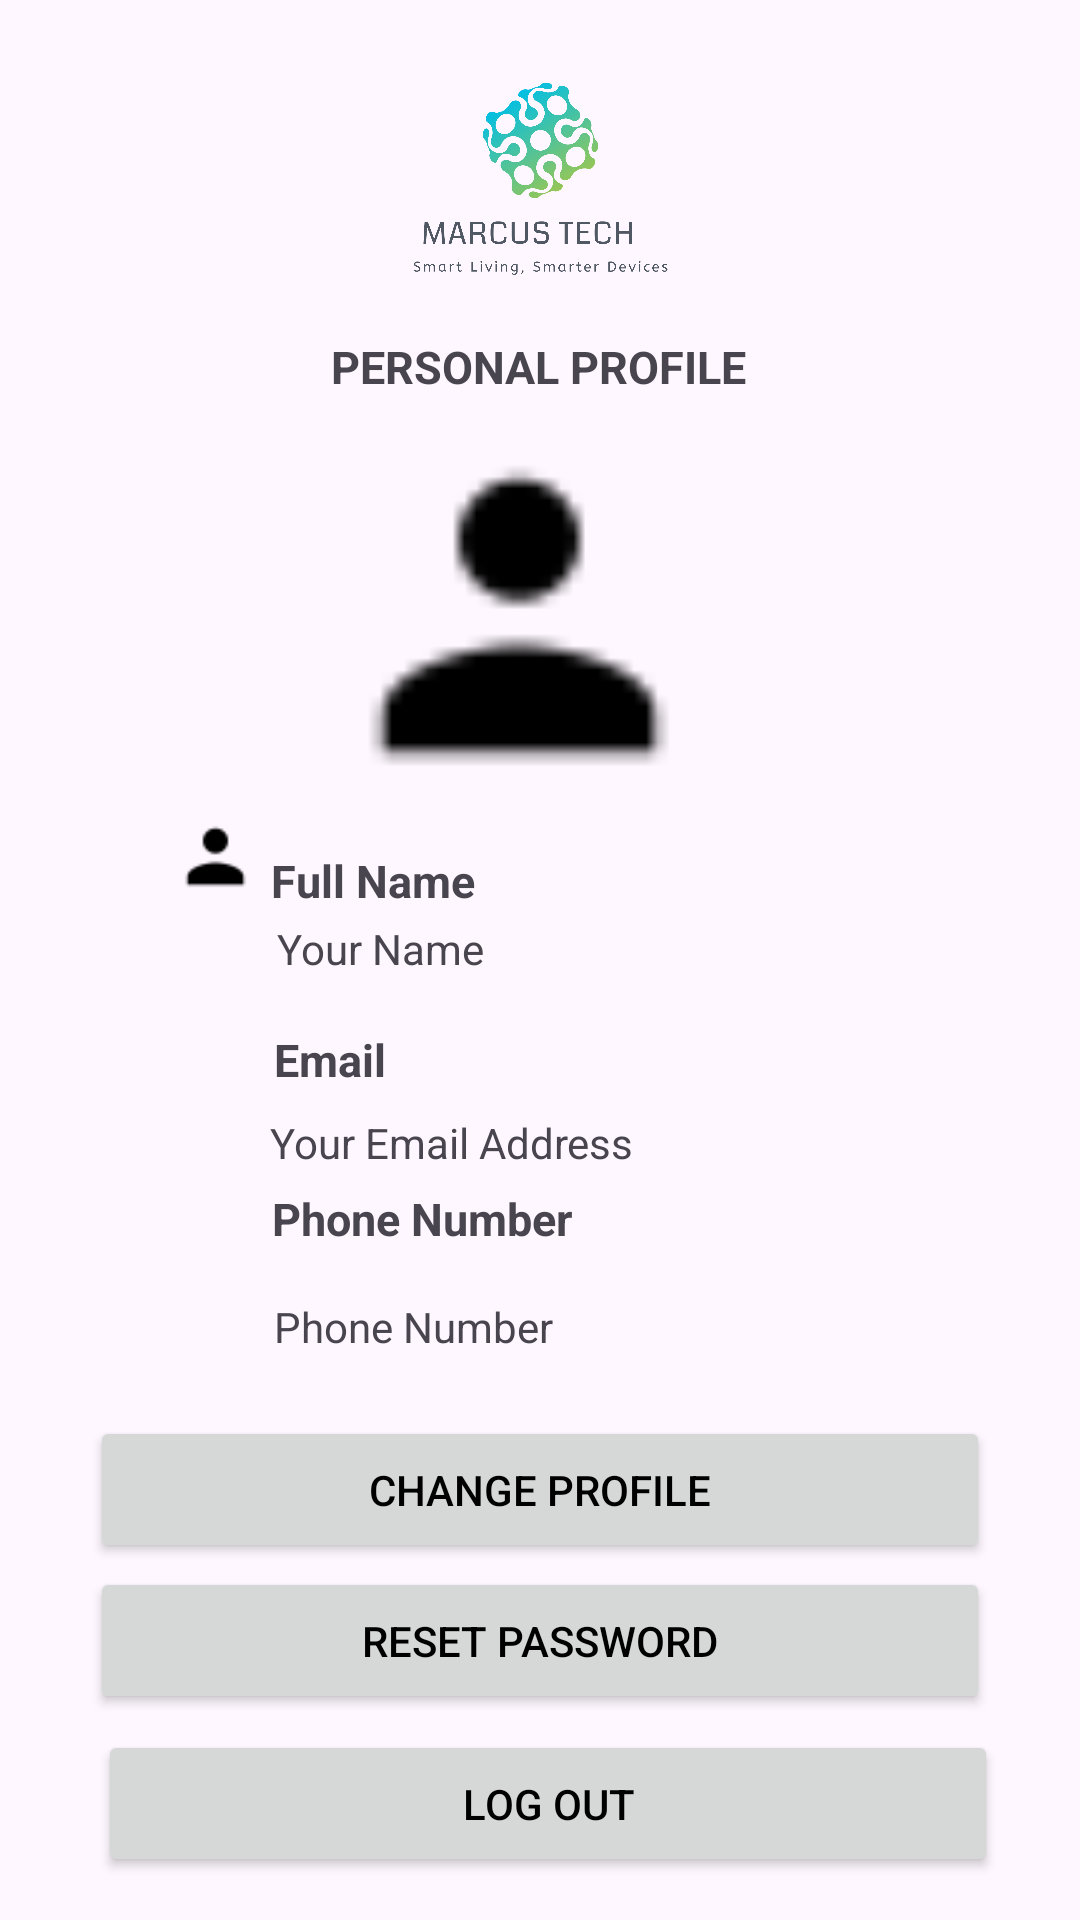

Where icons sit on this 1080*1920 app screen, as (x1, y1, x2, y2):
user: (185, 826, 246, 887)
